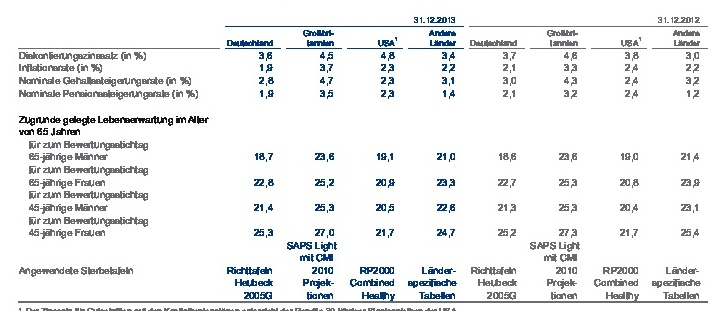table: (0, 0, 725, 311)
